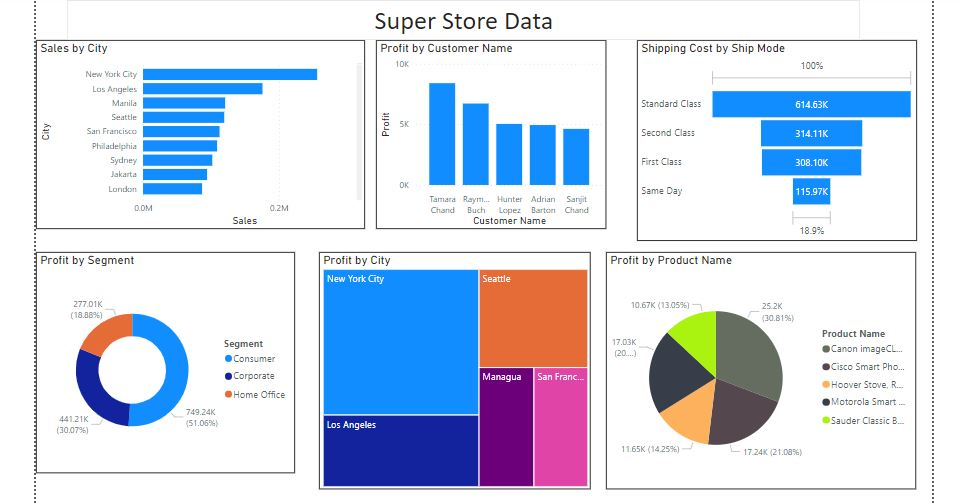

What the dashboard file says about the page in this screenshot:
{"tool":"powerbi","page":{"name":"Analysis","canvas":[1280,720],"ordinal":0},"visuals":[{"type":"donutChart","fields":{"Series":["Data.Segment"],"Y":["Data.Profit"]},"box":[23,360,361.4,339.8],"z":0},{"type":"columnChart","fields":{"Category":["Customers.Customer Name"],"Y":["Data.Profit"]},"box":[449.3,57.6,391.7,269.3],"z":1000},{"type":"treemap","fields":{"Group":["Data.City"],"Values":["Data.Profit"]},"box":[404.8,359.5,388,339.3],"z":2000},{"type":"clusteredBarChart","fields":{"Y":["Data.Sales"],"Category":["Data.City"]},"box":[23,57.6,403.2,269.3],"z":3000},{"type":"funnel","fields":{"Category":["Ship Mode.Ship Mode"],"Y":["Data.Shipping Cost"]},"box":[858.2,57.6,400.3,269.3],"z":4000},{"type":"pieChart","fields":{"Category":["Product Map.Product Name"],"Y":["Data.Profit"]},"box":[815,358.6,443.5,338.4],"z":5000},{"type":"textbox","box":[43.7,0,1133.9,57.1],"z":6000}]}

Visuals, with their boxes in screenshot pixels (x1, y1, x2, y2):
donutChart - Data.Segment x Data.Profit: <region>59, 249, 309, 484</region>
columnChart - Customers.Customer Name x Data.Profit: <region>354, 40, 625, 226</region>
treemap - Data.City x Data.Profit: <region>323, 249, 591, 483</region>
clusteredBarChart - Data.Sales x Data.City: <region>59, 40, 338, 226</region>
funnel - Ship Mode.Ship Mode x Data.Shipping Cost: <region>636, 40, 913, 226</region>
pieChart - Product Map.Product Name x Data.Profit: <region>607, 248, 913, 482</region>
textbox: <region>73, 0, 857, 40</region>
